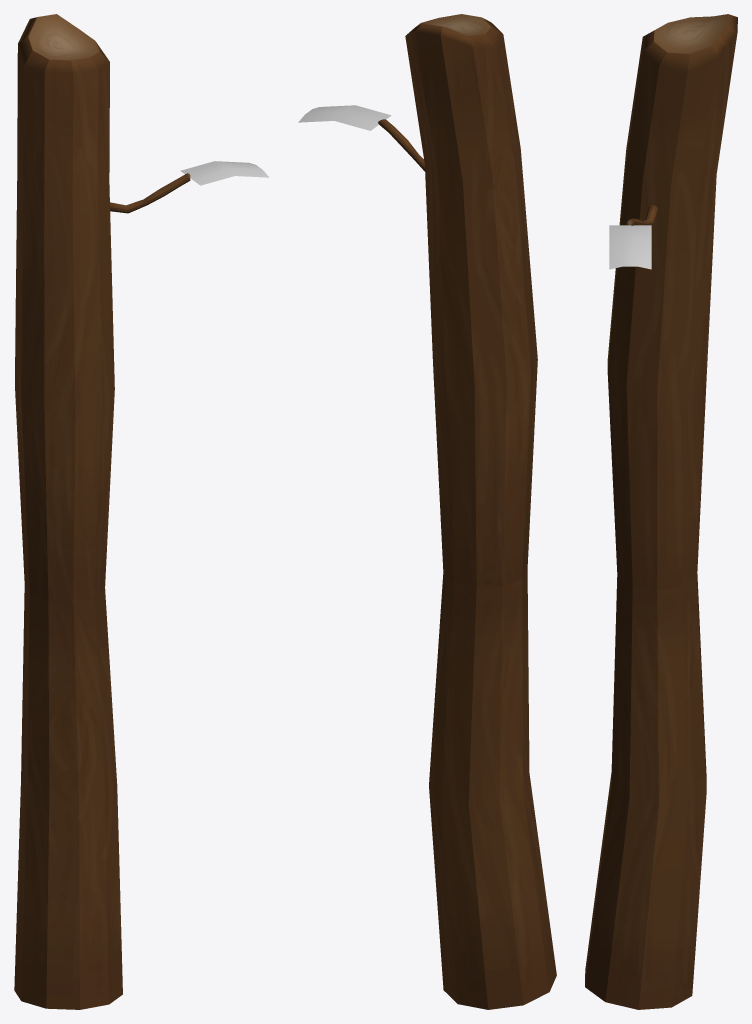
Rendered from tak.fbx.
3 renders of one model, left to right at view 1: azimuth 30°, elevation 25°; view 2: azimuth 150°, elevation 25°; view 3: azimuth 270°, elevation 25°, orthographic. The views are drawn at different scales.
Visible parts, largest first — view 1: stokken, blad; view 2: stokken, blad; view 3: stokken, blad.
Part boxes in pixels (x1,y1,x2,y2): stokken: (14, 14, 190, 1009); blad: (180, 161, 269, 185); stokken: (378, 14, 556, 1009); blad: (298, 105, 391, 130); stokken: (585, 14, 737, 1009); blad: (609, 225, 651, 269).
Bounding box in the file's own units: 41.43 × 160 × 22.62.
